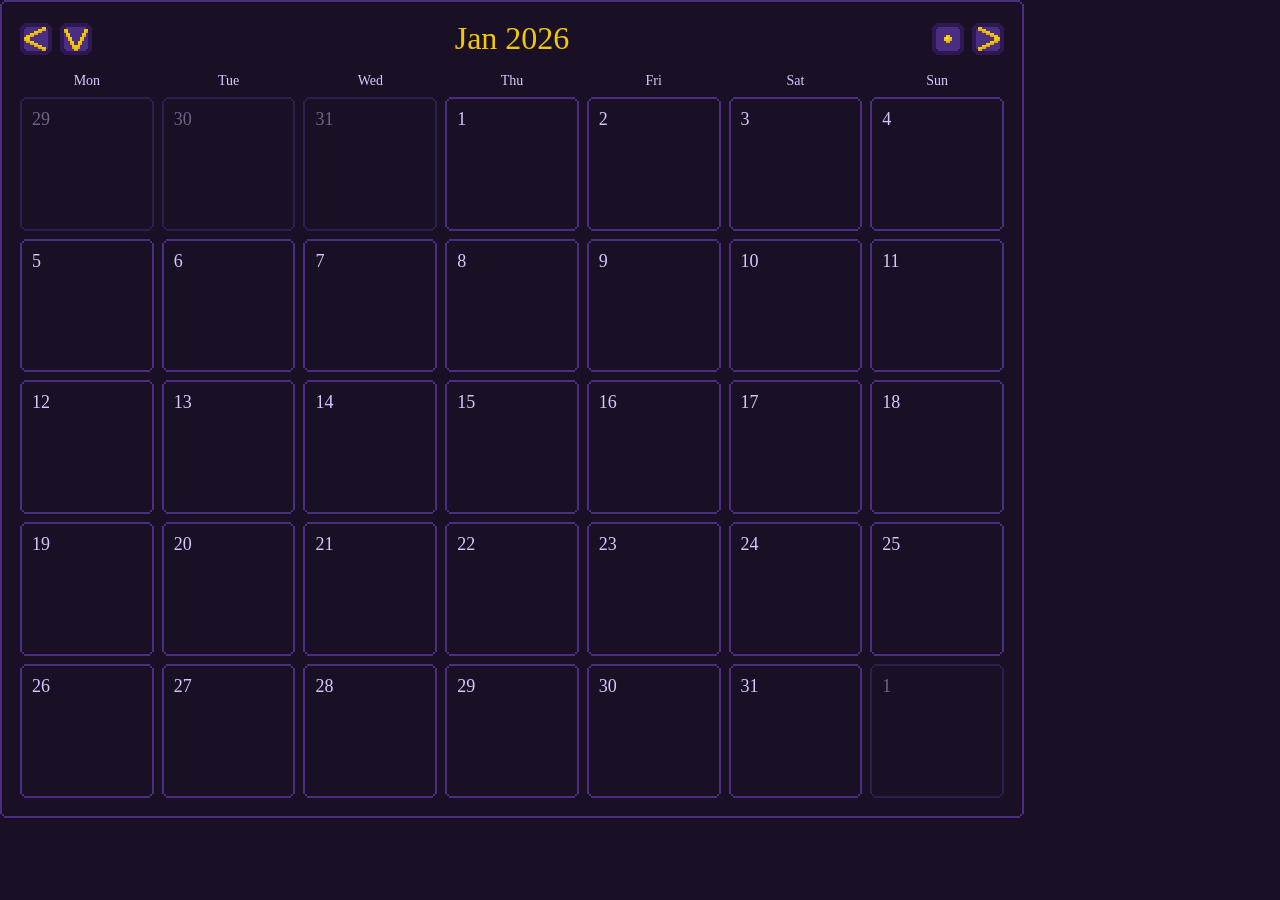
Calendar › shows the initial month and navigates across year boundaries
Check: the heading "Jan 2026" is shown, box x1=455 y1=20 x2=569 y2=57
Click the button named "Previous month": click(36, 38) x1=20 y1=22 x2=52 y2=54
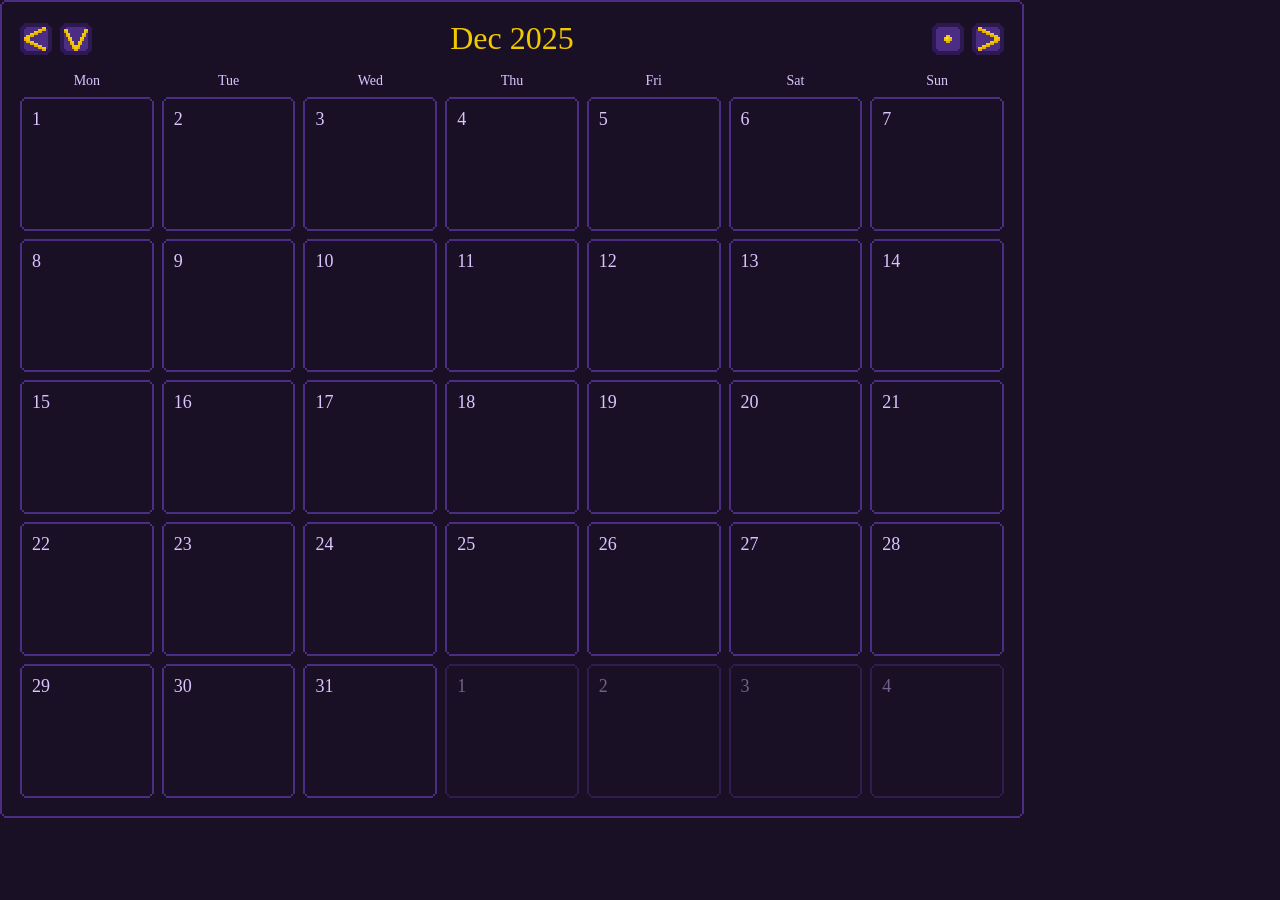
Check: the heading "Dec 2025" is shown, box x1=450 y1=20 x2=574 y2=57
Click the button named "Next month": click(988, 38) x1=972 y1=22 x2=1004 y2=54
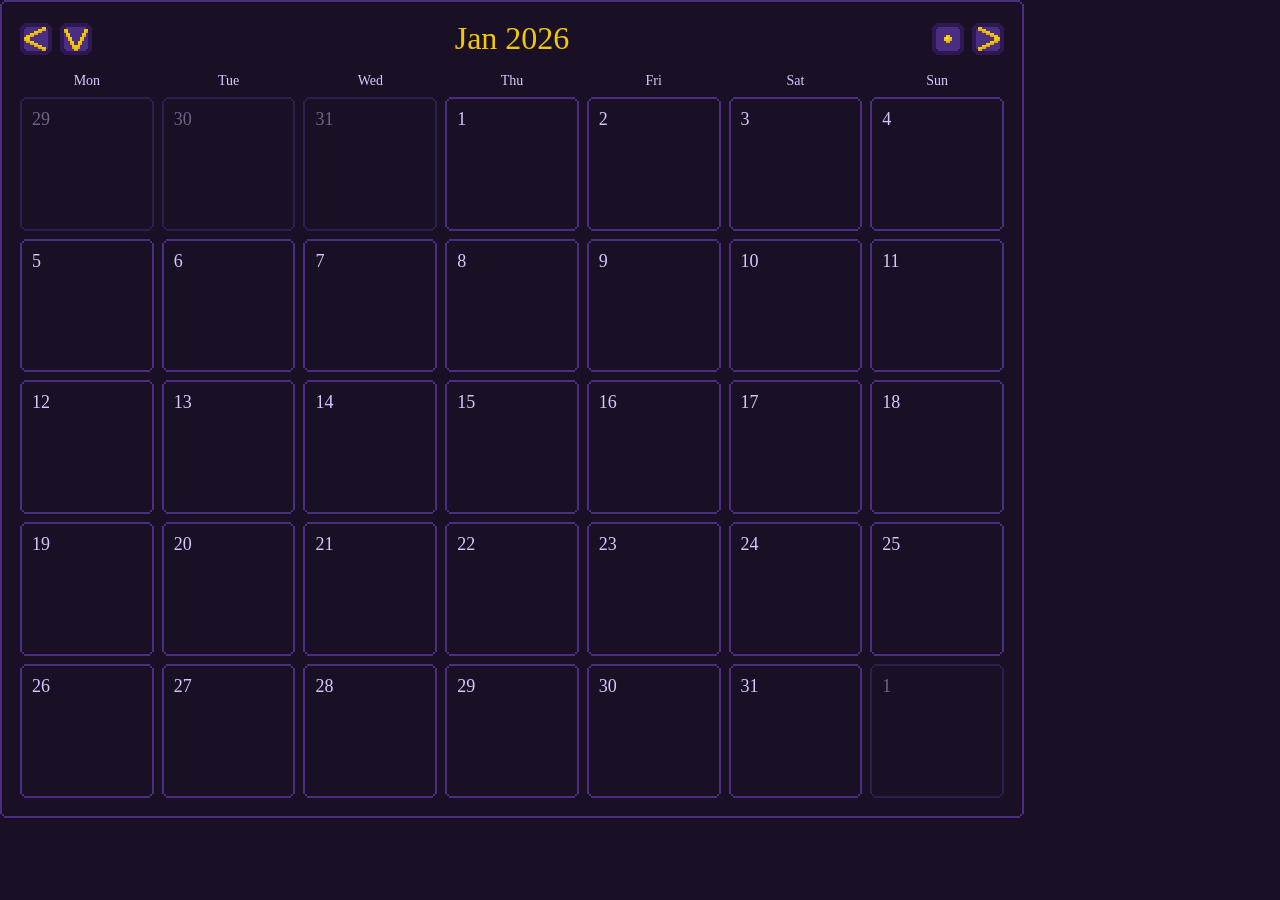
Click the button named "Next month": click(988, 38) x1=972 y1=22 x2=1004 y2=54
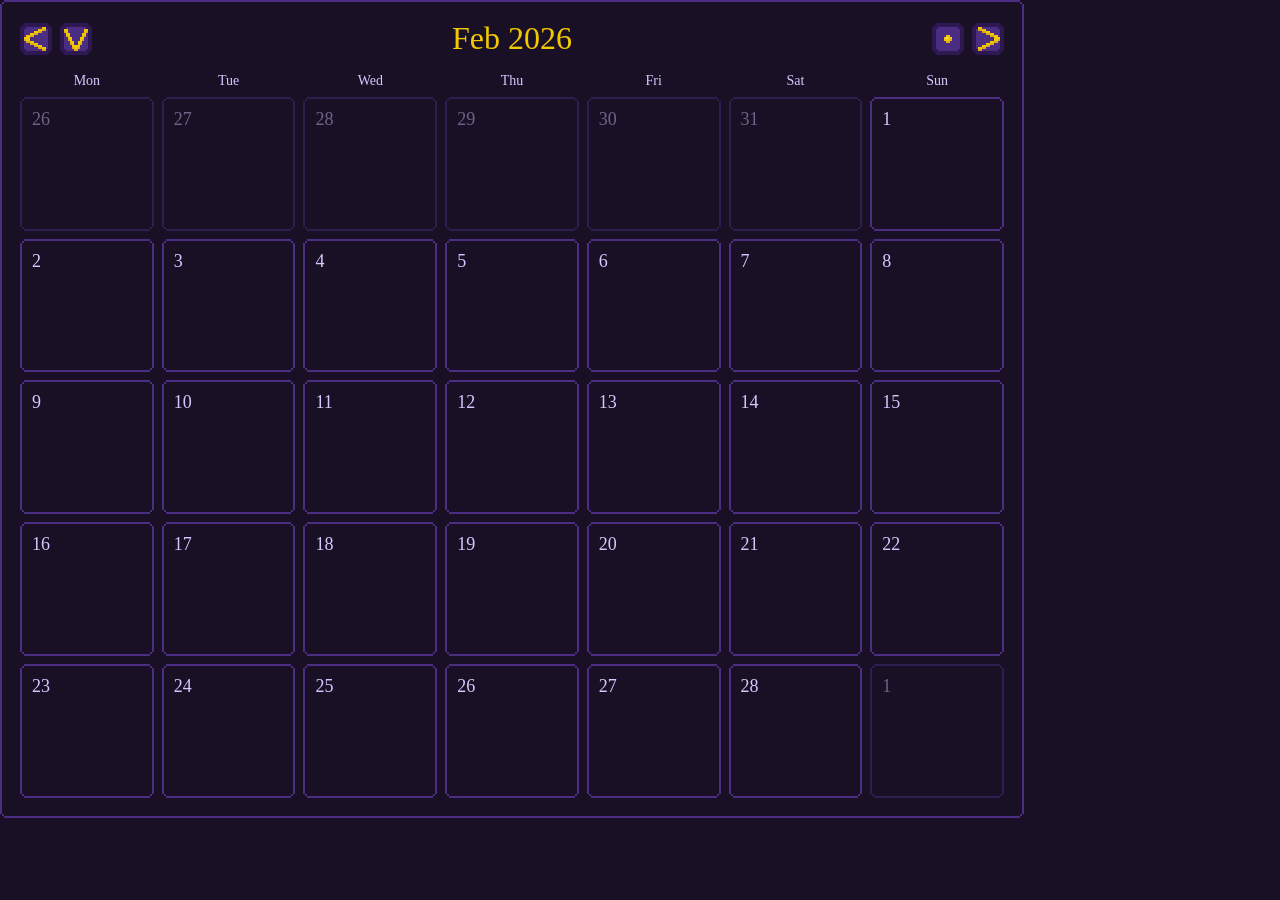
Check: the heading "Feb 2026" is shown, box x1=452 y1=20 x2=572 y2=57
